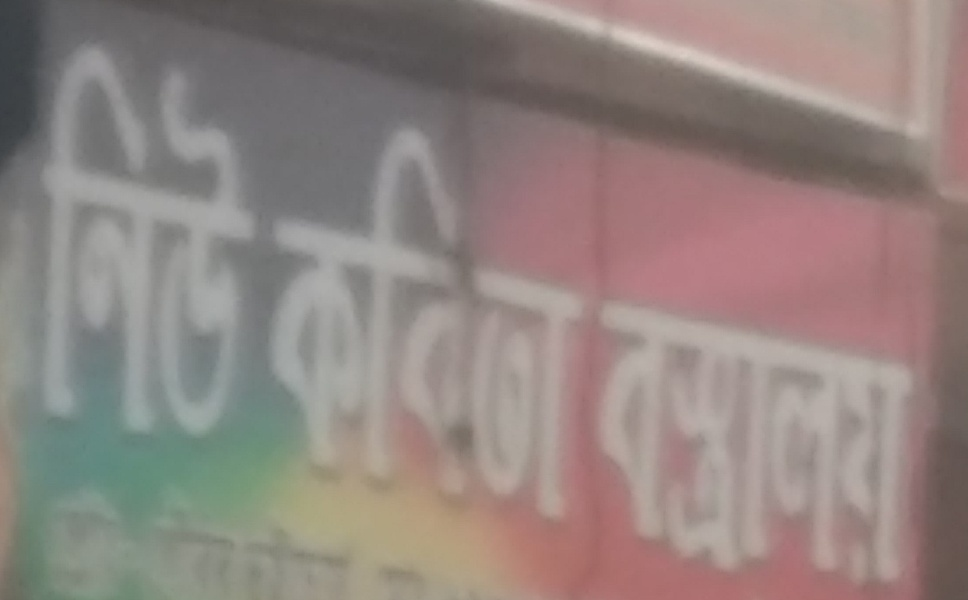text: (289, 95, 304, 534), (305, 95, 320, 534), (321, 95, 336, 534), (337, 95, 352, 534), (353, 95, 368, 534), (369, 95, 384, 534), (385, 95, 400, 534), (401, 95, 416, 534), (417, 95, 432, 534), (433, 95, 448, 534), (449, 95, 464, 534), (465, 95, 480, 534), (481, 95, 496, 534), (497, 95, 512, 534), (513, 95, 528, 534), (529, 95, 544, 534), (545, 95, 560, 534), (561, 95, 576, 534), (65, 30, 80, 459), (81, 30, 96, 459), (97, 30, 112, 459), (113, 30, 128, 459), (129, 30, 144, 459), (145, 30, 160, 459), (161, 30, 176, 459), (177, 30, 192, 459), (193, 30, 208, 459), (209, 30, 224, 459), (225, 30, 240, 459), (241, 30, 256, 459), (577, 95, 590, 534), (51, 30, 64, 459), (609, 290, 624, 592), (625, 290, 640, 592), (641, 290, 656, 592), (657, 290, 672, 592), (673, 290, 688, 592), (689, 290, 704, 592), (705, 290, 720, 592), (721, 290, 736, 592), (737, 290, 752, 592), (753, 290, 768, 592), (769, 290, 784, 592), (785, 290, 800, 592), (801, 290, 816, 592), (817, 290, 832, 592), (833, 290, 848, 592), (849, 290, 864, 592), (865, 290, 880, 592), (881, 290, 896, 592), (897, 290, 912, 592), (257, 30, 266, 459), (597, 290, 608, 592), (283, 95, 288, 534), (913, 290, 920, 592), (49, 472, 64, 599), (65, 472, 80, 599), (81, 472, 96, 599), (97, 472, 112, 599), (113, 472, 128, 599), (129, 472, 144, 599), (145, 472, 160, 599), (161, 472, 176, 599), (177, 472, 192, 599), (193, 472, 208, 599), (209, 472, 224, 599), (225, 472, 240, 599), (241, 472, 256, 599), (257, 472, 272, 599), (273, 472, 288, 599), (289, 472, 304, 599), (305, 472, 320, 599), (321, 472, 336, 599), (337, 472, 352, 599), (353, 472, 368, 599), (369, 472, 384, 599), (385, 472, 400, 599), (401, 472, 416, 599), (417, 472, 432, 599), (433, 472, 448, 599), (449, 472, 464, 599), (465, 472, 480, 599), (38, 472, 48, 599), (481, 472, 490, 599)
